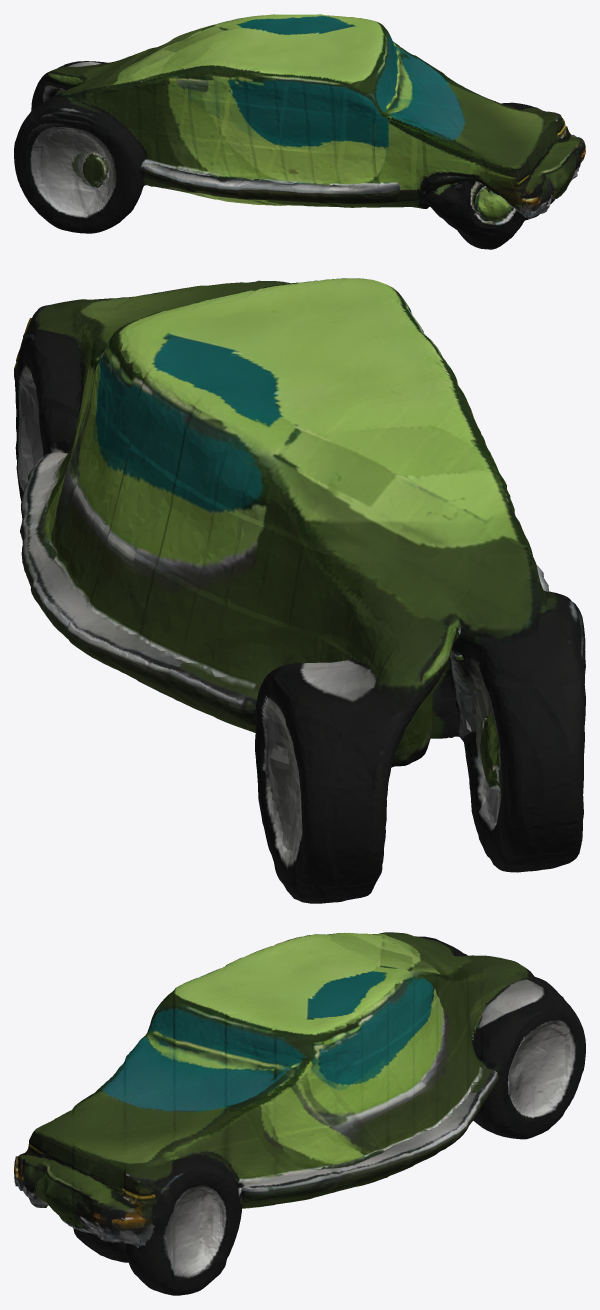
3 views of the same model, one above another, from view 1: azimuth 30°, elevation 25°; view 2: azimuth 150°, elevation 25°; view 3: azimuth 270°, elevation 25° (orthographic). The views are drawn at different scales.
Visible parts, largest first — view 1: world; view 2: world; view 3: world.
Part boxes in pixels (x1,y1,x2,y2): world: [14, 14, 585, 249]; world: [14, 278, 585, 903]; world: [14, 932, 585, 1295].
Size of the model in its own units: 0.9948 by 0.4016 by 0.9769.
Materials: 1 (1 with a texture image).
